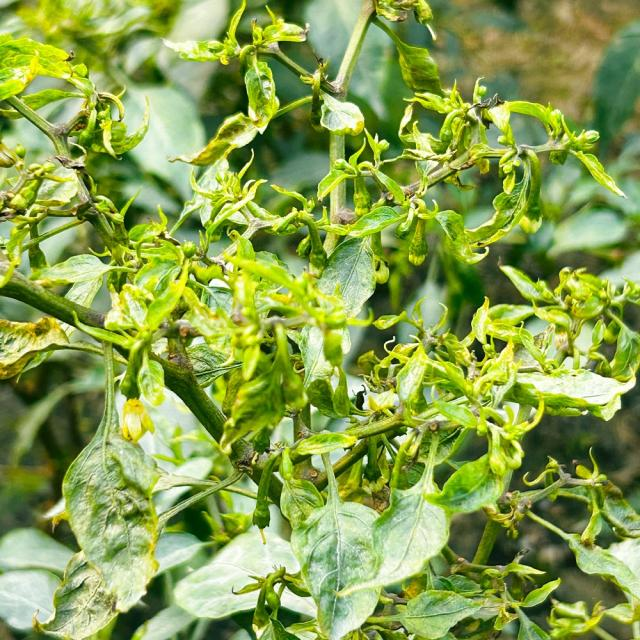Chilli_Leaf_Curl: (0, 1, 638, 638)
